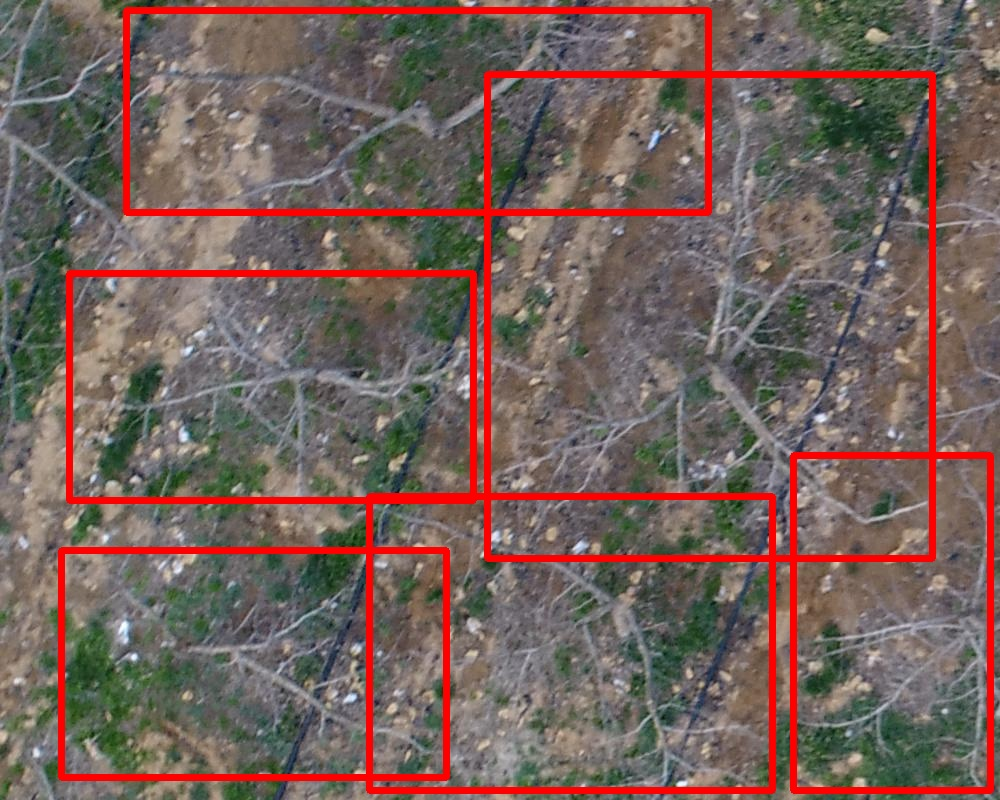apple: (487, 74, 932, 558), (369, 496, 772, 790), (126, 10, 708, 212), (69, 273, 473, 500), (61, 550, 446, 777), (793, 455, 990, 790)
